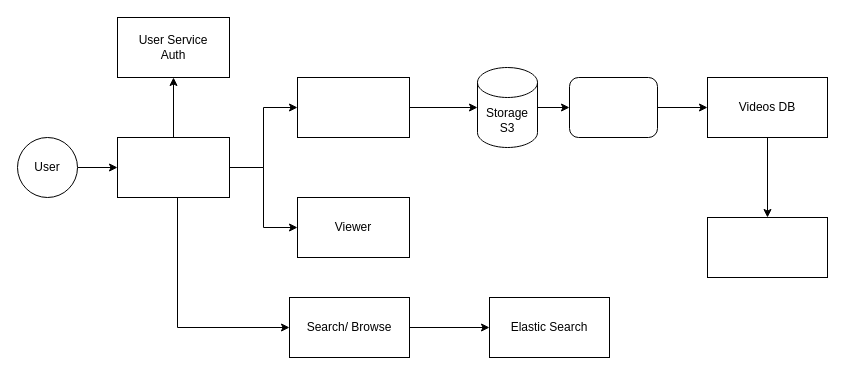
Image size: 845x375. Some labels were removed from this diagram. Each missing label, with the centre of its shape:
"API Gateway" goes at point (173, 167).
"CDN" goes at point (767, 247).
"ML Curation/tagging Service async" goes at point (613, 107).
"Upload" goes at point (353, 107).
